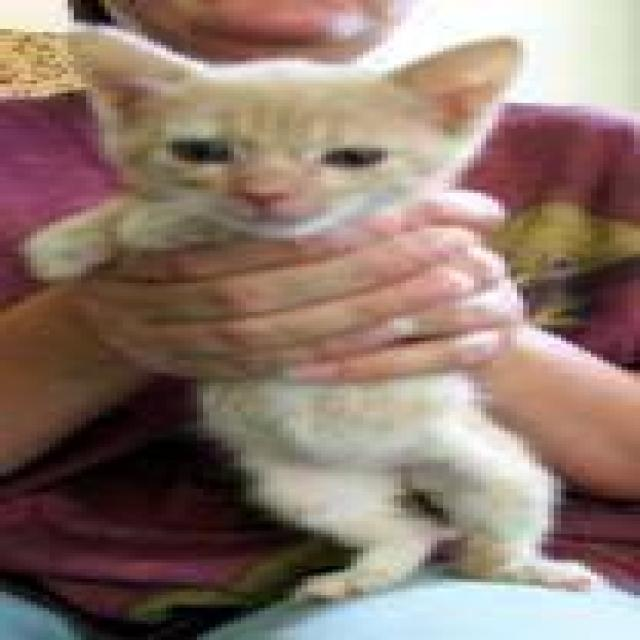cat: (18, 26, 597, 601)
